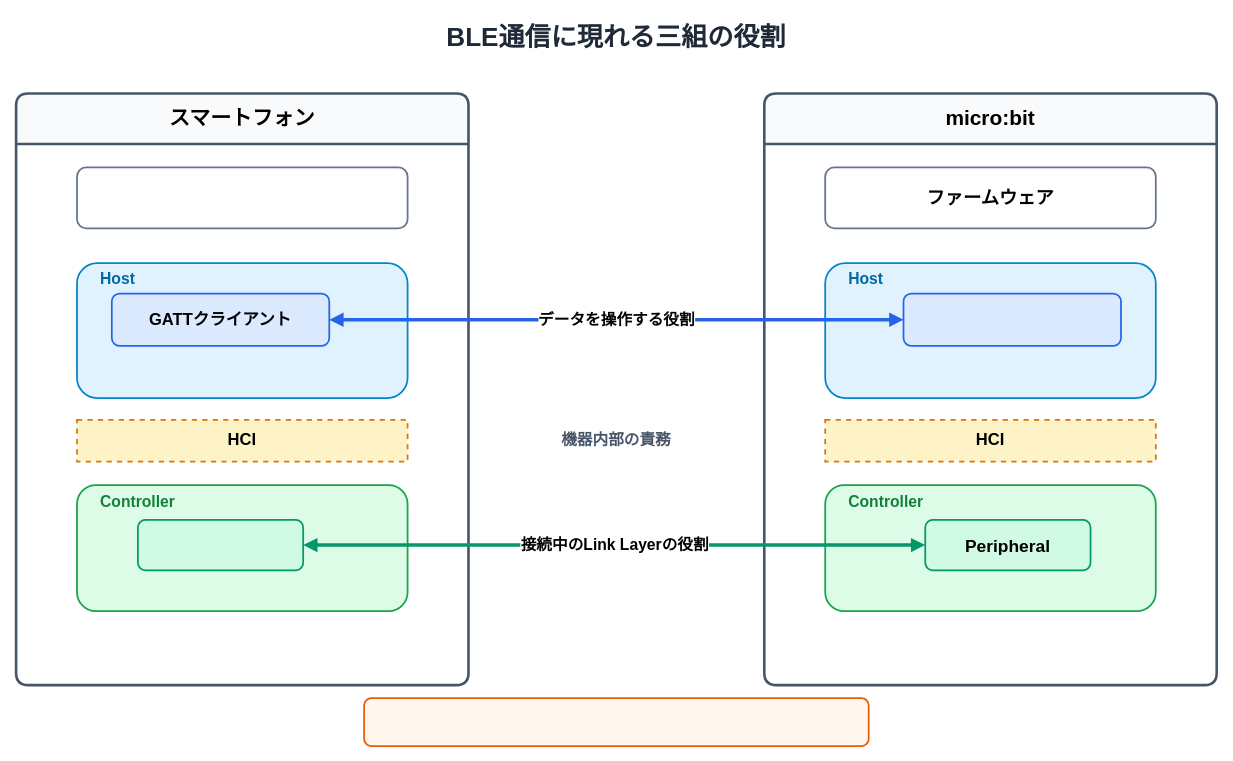
The diagram is 1233 pixels wide and 761 high, and some of its shapes have lost their labels. Each missing label, with the centre of its shape:
"Central" goes at (220,545).
"GATTサーバー" goes at (1011,319).
"アプリケーション" goes at (242,197).
"三組は、通信の異なる位置を説明する役割です" goes at (616,721).
